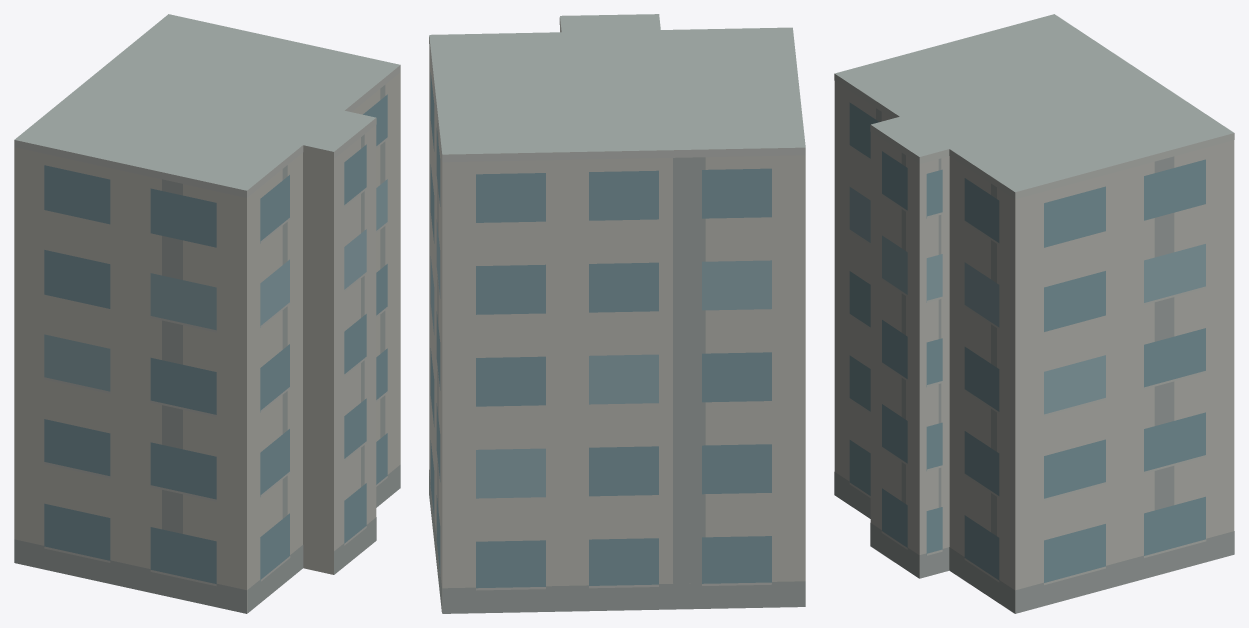
Rendered from residential-ccfa667f-35e3-47b3-96e7-60d4ea832de8.glb.
The picture shows the model from 3 angles, left to right: view 1: azimuth 30°, elevation 25°; view 2: azimuth 150°, elevation 25°; view 3: azimuth 270°, elevation 25°; orthographic projection. The views are drawn at different scales.
Visible parts, largest first — view 1: residential-ccfa667f-35e3-47b3-96e7-60d4ea832de8.tmp; view 2: residential-ccfa667f-35e3-47b3-96e7-60d4ea832de8.tmp; view 3: residential-ccfa667f-35e3-47b3-96e7-60d4ea832de8.tmp.
Part boxes in pixels (box(x1,y1,x2,y2)): residential-ccfa667f-35e3-47b3-96e7-60d4ea832de8.tmp: box(14, 14, 400, 613); residential-ccfa667f-35e3-47b3-96e7-60d4ea832de8.tmp: box(429, 14, 805, 613); residential-ccfa667f-35e3-47b3-96e7-60d4ea832de8.tmp: box(834, 14, 1234, 613).
Bounding box in the file's own units: 13.16 × 14.5 × 12.48.
